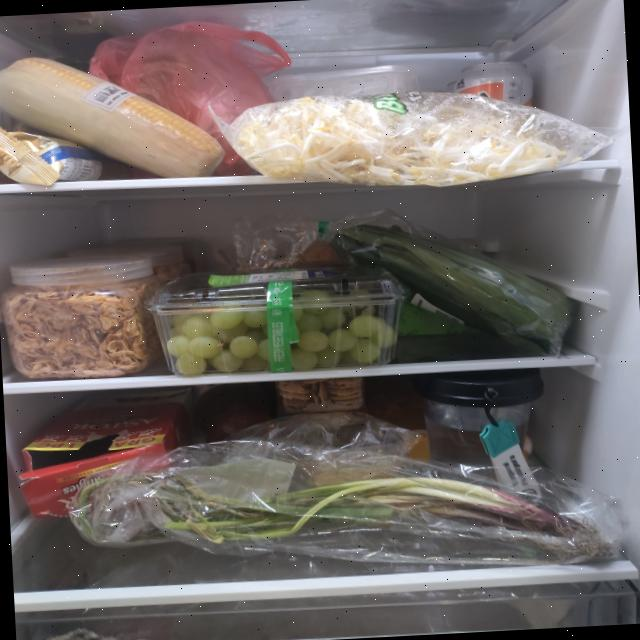bean_sprouts: (236, 82, 566, 198)
corn: (0, 47, 228, 189)
grape: (164, 280, 401, 378)
leafy_greens: (327, 213, 578, 368)
spring_onion: (66, 447, 608, 588)
